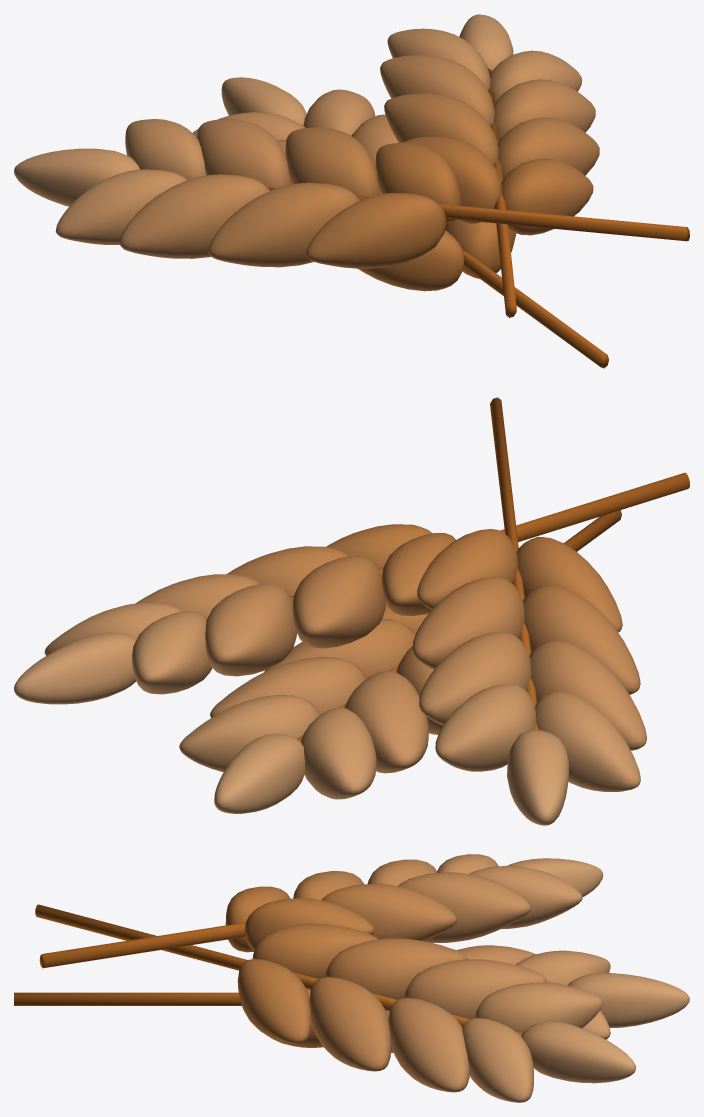
File: Wheat_Item.fbx
3 views of the same model, one above another, from view 1: azimuth 30°, elevation 25°; view 2: azimuth 150°, elevation 25°; view 3: azimuth 270°, elevation 25° (orthographic). The views are drawn at different scales.
Parts seen in each view (by area): view 1: Wheat_Stack.001; view 2: Wheat_Stack.001; view 3: Wheat_Stack.001.
Boxes of the visible parts, x1,y1,x2,y2 form: Wheat_Stack.001: [14, 14, 689, 368]; Wheat_Stack.001: [14, 397, 689, 825]; Wheat_Stack.001: [14, 854, 689, 1102].
Size of the model in its own units: 38.18 by 8.99 by 46.05.
